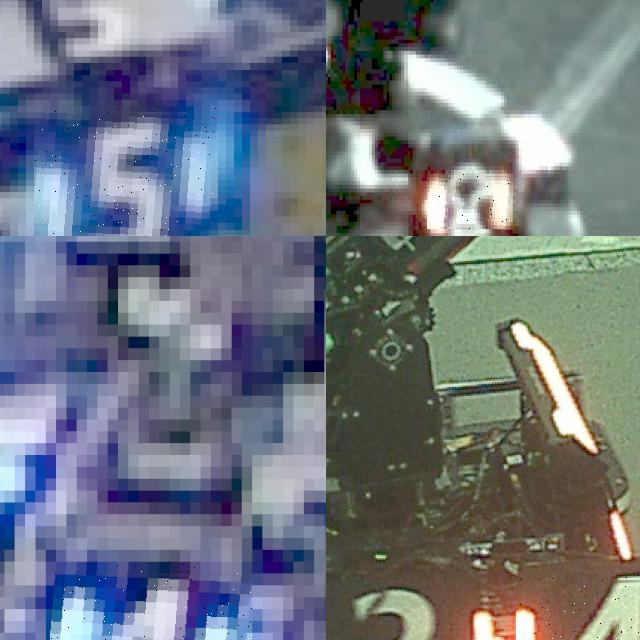B4: (45, 562, 252, 640)
B5: (34, 106, 218, 236)
R4: (516, 574, 640, 640)
Rs: (427, 173, 513, 230)
